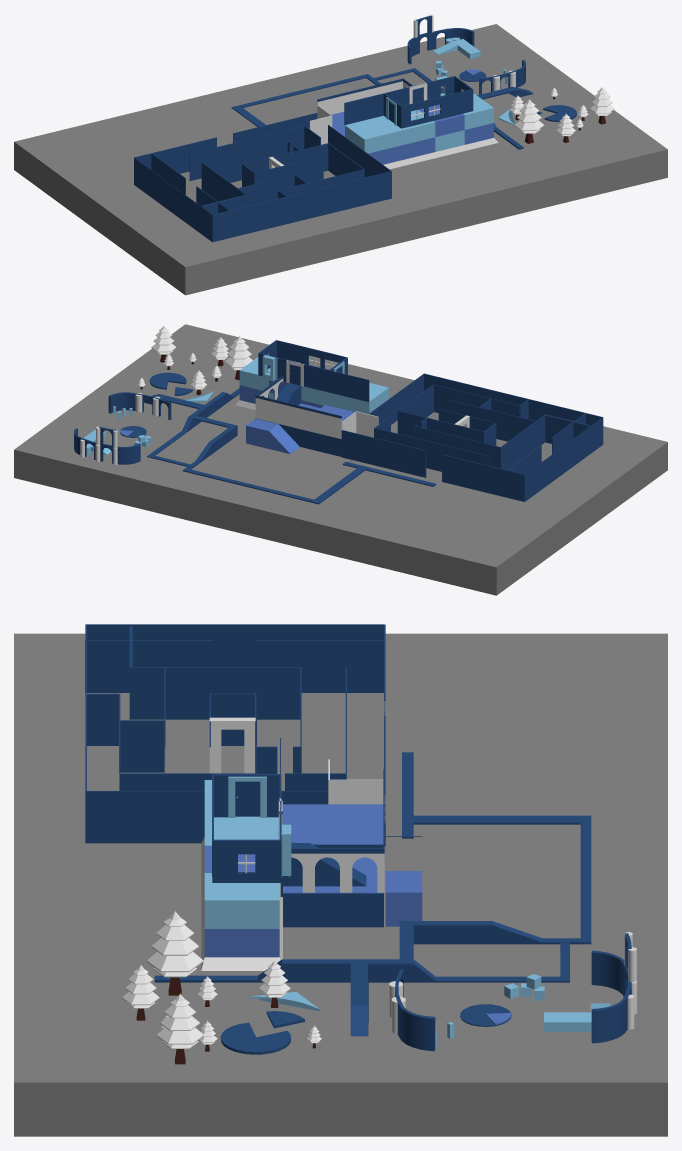
File: Environment.fbx
The picture shows the model from 3 angles, top to bottom: view 1: azimuth 30°, elevation 25°; view 2: azimuth 150°, elevation 25°; view 3: azimuth 270°, elevation 25°; orthographic projection. The views are drawn at different scales.
Parts seen in each view (by area): view 1: Plane, maz, Cube.017, Cube.025, Plane.001, Cylinder.004, Cube.008, Cube.003, Cube.053, Cube.002, Cube.052; view 2: Plane, maz, Cube.025, Cube.017, Plane.001, Cylinder.004, Cube.053, Cube.008, Cube.003, Circle.001, Cube.002, Cube.009; view 3: Plane, maz, Cube.017, Cube.025, Plane.001, Cylinder.004, Cube.003, Cube.053, Circle.001, Cube.002, Cube.009, Cube.001 (+4 smaller).
Part boxes in pixels (x1,y1,x2,y2): Plane: (14,24,667,295); maz: (134,113,391,242); Cube.017: (345,76,498,169); Cube.025: (309,78,412,144); Plane.001: (231,68,533,149); Cylinder.004: (407,14,474,64); Cube.008: (344,93,383,124); Cube.003: (514,99,544,143); Cube.053: (479,60,525,94); Cube.002: (590,87,614,124); Cube.052: (433,39,480,58); Plane: (14,324,667,595); maz: (341,373,603,501); Cube.025: (246,376,378,456); Cube.017: (235,340,388,413); Plane.001: (144,388,436,504); Cylinder.004: (74,426,140,464); Cube.053: (108,392,171,419); Cube.008: (330,370,369,401); Cube.003: (224,336,252,380); Circle.001: (149,372,192,395); Cube.002: (151,326,176,362); Cube.009: (276,383,301,405); Plane: (14,633,667,1136); maz: (85,624,385,846); Cube.017: (201,774,291,970); Cube.025: (280,759,422,927); Plane.001: (154,752,591,1036); Cylinder.004: (591,932,637,1043); Cube.003: (146,911,203,995); Cube.053: (389,969,435,1051); Circle.001: (220,1011,304,1054); Cube.002: (156,993,203,1064); Cube.009: (280,842,366,896); Cube.001: (122,965,159,1020).
Size of the model in its own units: 2602 by 440 by 1601.
